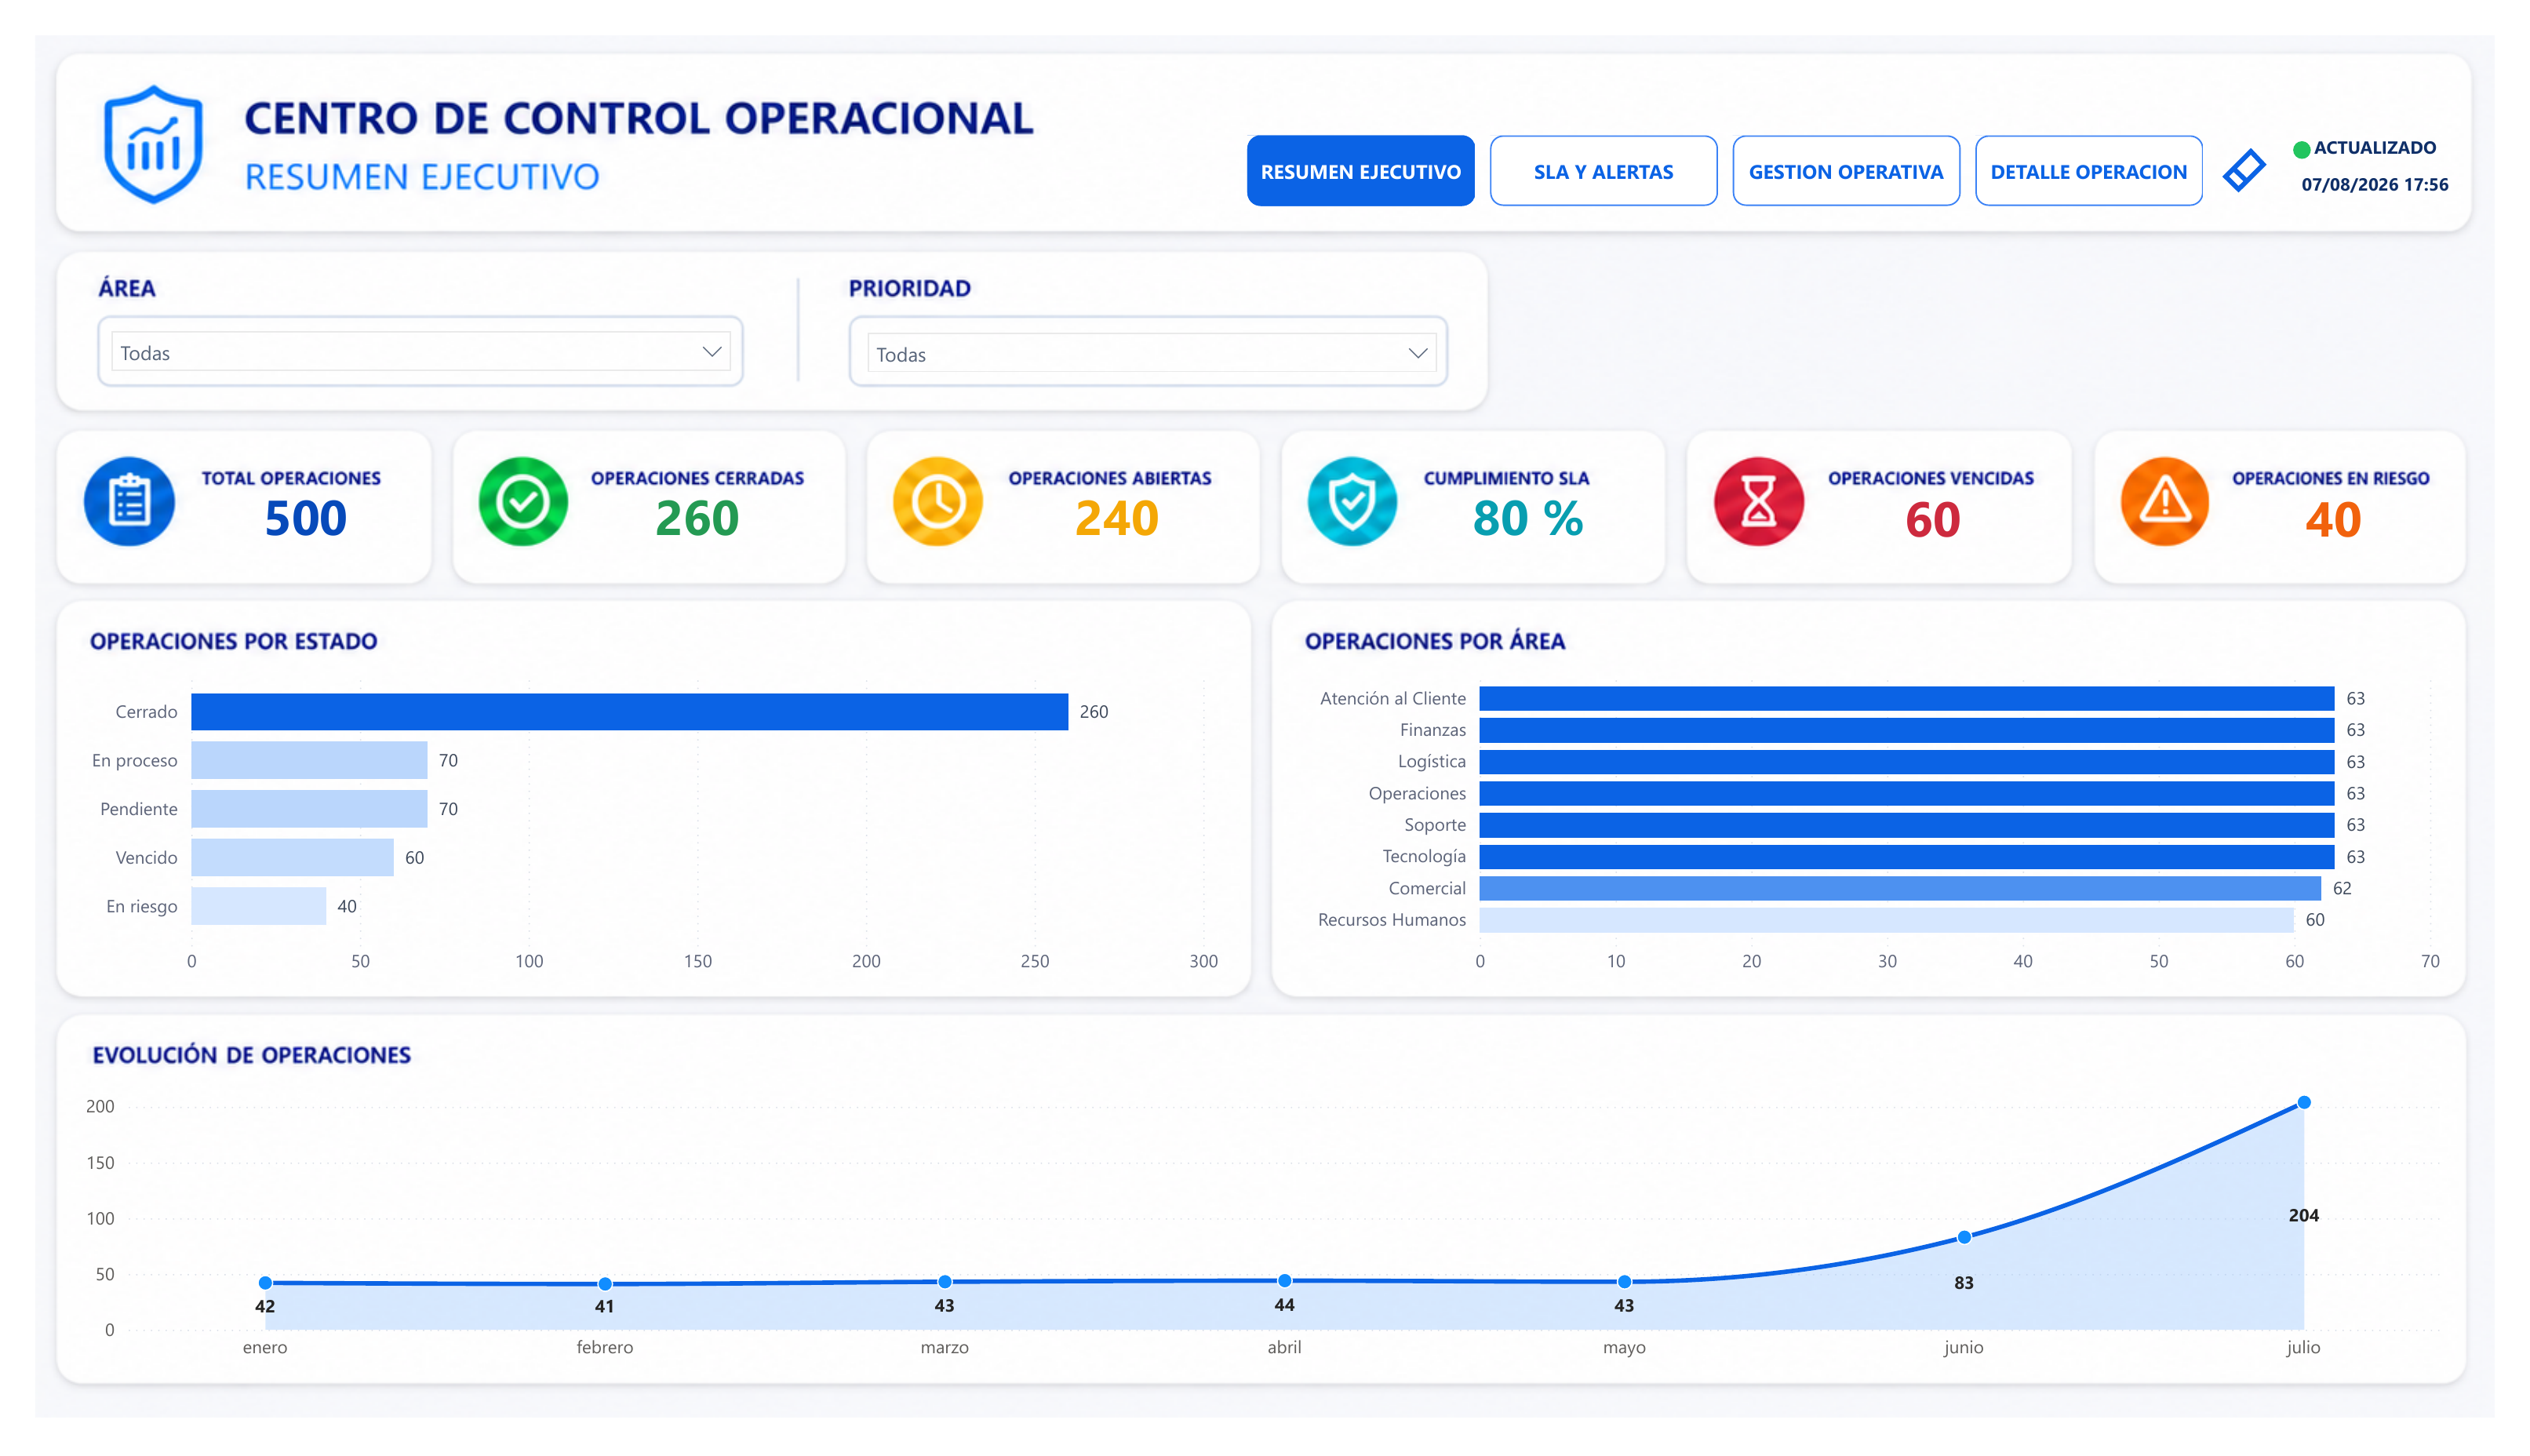

The dashboard page shown, as its layout file describes it:
{"tool":"powerbi","page":{"name":"RESUMEN EJECUTIVO","canvas":[1672,941],"ordinal":0},"visuals":[{"type":"slicer","fields":{"Values":["Dim_Area.Area"]},"box":[42.4,191.2,440.4,47.6],"z":0},{"type":"slicer","fields":{"Values":["Dim_Prioridad.Prioridad"]},"box":[556.2,191.5,406.9,47.7],"z":1000},{"type":"cardVisual","fields":{"Data":["Fact_Operaciones.Operaciones Cerradas"]},"box":[361.7,291.7,177.5,66.2],"z":2000},{"type":"cardVisual","fields":{"Data":["Fact_Operaciones.Operaciones Abiertas"]},"box":[646.7,291.7,177.5,66.2],"z":3000},{"type":"cardVisual","fields":{"Data":["Fact_Operaciones.Porcentaje Cumplimiento SLA"]},"box":[926.7,291.7,177.5,66.2],"z":4000},{"type":"cardVisual","fields":{"Data":["Fact_Operaciones.Operaciones Vencidas"]},"box":[1201.7,292.5,177.5,66.2],"z":5000},{"type":"cardVisual","fields":{"Data":["Fact_Operaciones.Operaciones En Riesgo"]},"box":[1474.2,292.5,177.5,66.2],"z":6000},{"type":"cardVisual","fields":{"Data":["Fact_Operaciones.Total Operaciones"]},"box":[95,291.7,177.5,66.2],"z":7000},{"type":"clusteredBarChart","fields":{"Category":["Dim_Estado.Estado"],"Y":["Fact_Operaciones.Total Operaciones"]},"box":[28.8,421.2,780,226.2],"z":8000},{"type":"clusteredBarChart","fields":{"Category":["Dim_Area.Area"],"Y":["Fact_Operaciones.Total Operaciones"]},"box":[860,421.2,780,226.2],"z":9000},{"type":"stackedAreaChart","fields":{"Category":["Dim_Fecha.Mes"],"Y":["Fact_Operaciones.Total Operaciones"]},"box":[28.6,705.7,1611.4,204.3],"z":10000},{"type":"pageNavigator","box":[824,68,650,48],"z":11000},{"type":"actionButton","box":[1487,68,40,48],"z":12000},{"type":"cardVisual","title":"ACTUALIZADO","fields":{"Data":["Consulta.Texto Actualizacion"]},"box":[1536,68,110,48],"z":13000},{"type":"shape","box":[1535,72,12,12],"z":14000}]}

Visuals, with their boxes in screenshot pixels (x1, y1, x2, y2), scaled from the page's 1672x941 canvas onto the 2530x1456 screenshot:
slicer - Dim_Area.Area: crop(64, 296, 730, 369)
slicer - Dim_Prioridad.Prioridad: crop(842, 297, 1458, 370)
cardVisual - Fact_Operaciones.Operaciones Cerradas: crop(548, 451, 816, 554)
cardVisual - Fact_Operaciones.Operaciones Abiertas: crop(978, 451, 1247, 554)
cardVisual - Fact_Operaciones.Porcentaje Cumplimiento SLA: crop(1402, 451, 1671, 554)
cardVisual - Fact_Operaciones.Operaciones Vencidas: crop(1818, 453, 2087, 555)
cardVisual - Fact_Operaciones.Operaciones En Riesgo: crop(2230, 453, 2499, 555)
cardVisual - Fact_Operaciones.Total Operaciones: crop(144, 451, 413, 554)
clusteredBarChart - Dim_Estado.Estado x Fact_Operaciones.Total Operaciones: crop(44, 652, 1224, 1002)
clusteredBarChart - Dim_Area.Area x Fact_Operaciones.Total Operaciones: crop(1301, 652, 2481, 1002)
stackedAreaChart - Dim_Fecha.Mes x Fact_Operaciones.Total Operaciones: crop(43, 1092, 2481, 1408)
pageNavigator: crop(1247, 105, 2230, 180)
actionButton: crop(2250, 105, 2310, 180)
"ACTUALIZADO" cardVisual: crop(2324, 105, 2491, 180)
shape: crop(2323, 111, 2341, 130)
